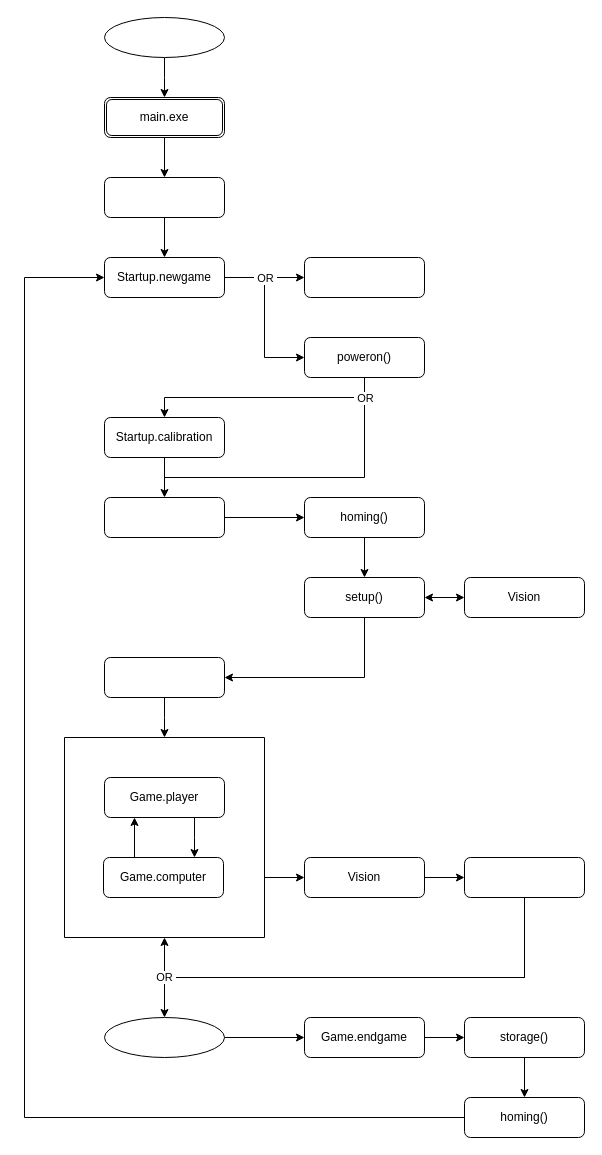
This 602x1155 diagram has some shape labels left out. The shapes that lost their labels are listed below. From the top down, each one's box as (x1, y1, x2, y2) in pixels, then its label:
(104, 16, 224, 58): Start
(104, 176, 224, 218): Startup
(304, 256, 424, 298): poweroff()
(104, 496, 224, 538): Startup.initialization
(104, 656, 224, 698): Game
(464, 856, 584, 898): Checkerboard
(104, 1016, 224, 1058): End
